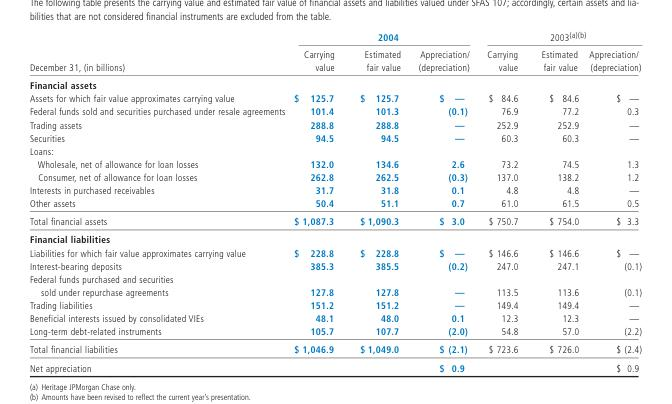table: (28, 29, 640, 372)
table column: (28, 29, 288, 372), (408, 29, 477, 372), (346, 29, 408, 372), (288, 29, 346, 372), (583, 29, 640, 372), (529, 29, 583, 372), (477, 29, 529, 372)
table column header: (28, 29, 640, 75)
table projected row header: (28, 75, 640, 91), (28, 230, 640, 245), (28, 144, 640, 156)
table row: (28, 45, 640, 75), (28, 272, 640, 298), (28, 211, 640, 230), (28, 339, 640, 358), (28, 29, 640, 45), (28, 75, 640, 91), (28, 196, 640, 211), (28, 230, 640, 245), (28, 324, 640, 339), (28, 130, 640, 144), (28, 156, 640, 170), (28, 258, 640, 272), (28, 358, 640, 372), (28, 91, 640, 104), (28, 104, 640, 117), (28, 117, 640, 130), (28, 170, 640, 183), (28, 183, 640, 196), (28, 245, 640, 258), (28, 298, 640, 311), (28, 311, 640, 324), (28, 144, 640, 156)
table spanning cell: (28, 29, 288, 75), (288, 29, 477, 45), (477, 29, 640, 45)
